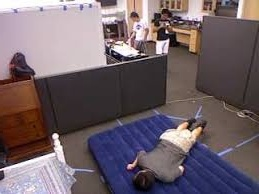fall: (126, 111, 212, 188)
not_fallen: (152, 7, 175, 59), (125, 11, 151, 55)
